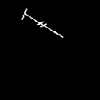treble_crochet: (22, 9, 62, 37)
